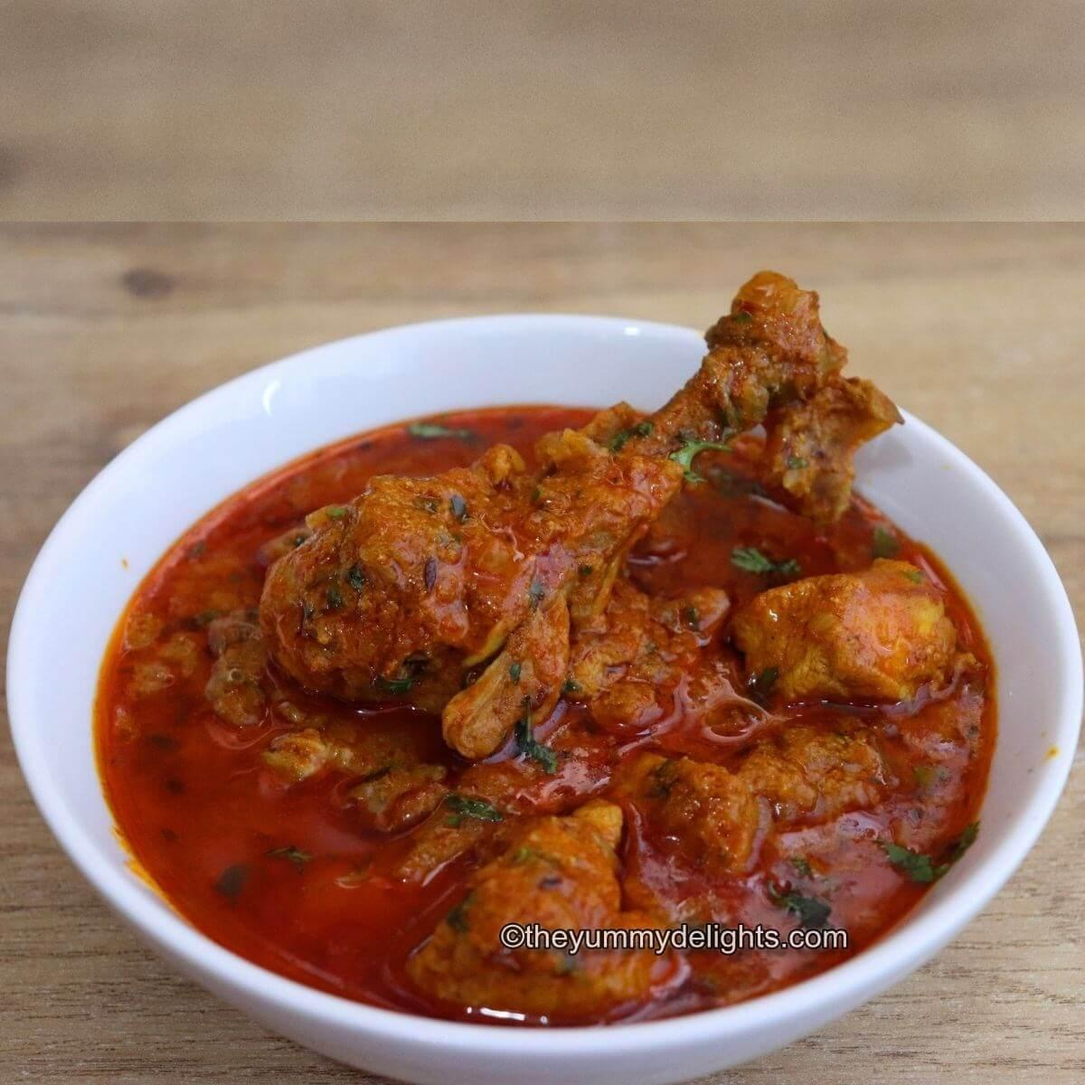chicken: (169, 375, 986, 1015)
